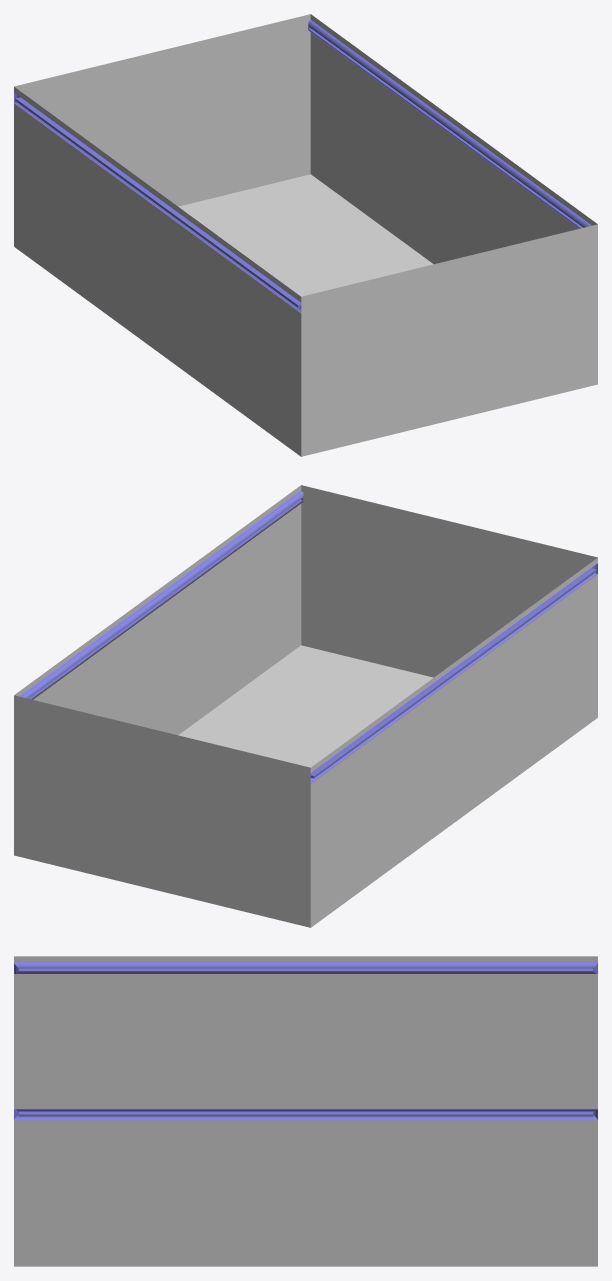
File: New_Small_Trap_Base.fbx
3 renders of one model, top to bottom at view 1: azimuth 30°, elevation 25°; view 2: azimuth 150°, elevation 25°; view 3: azimuth 270°, elevation 25°, orthographic.
Parts seen in each view (by area): view 1: Cube.005; view 2: Cube.005; view 3: Cube.005.
Part boxes in pixels (<box>): Cube.005: <box>14,14,597,456</box>; Cube.005: <box>14,485,597,927</box>; Cube.005: <box>14,956,597,1266</box>.
Bounding box in the file's own units: 540 × 277 × 899.
